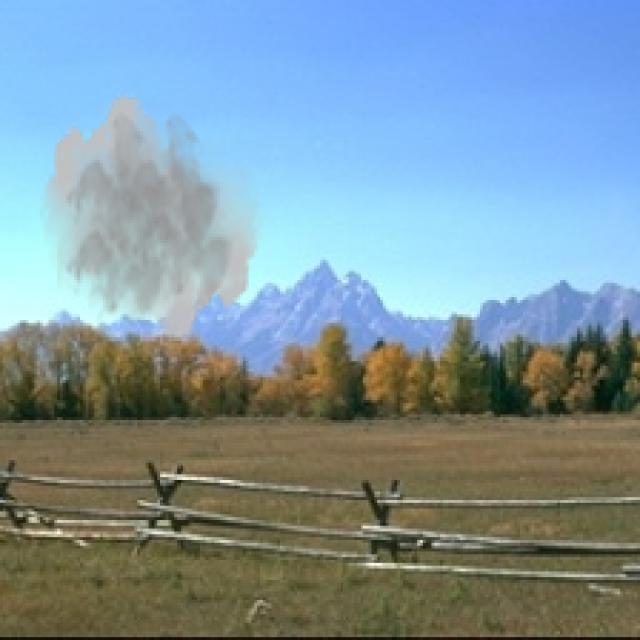Smoke: (40, 91, 263, 343)
